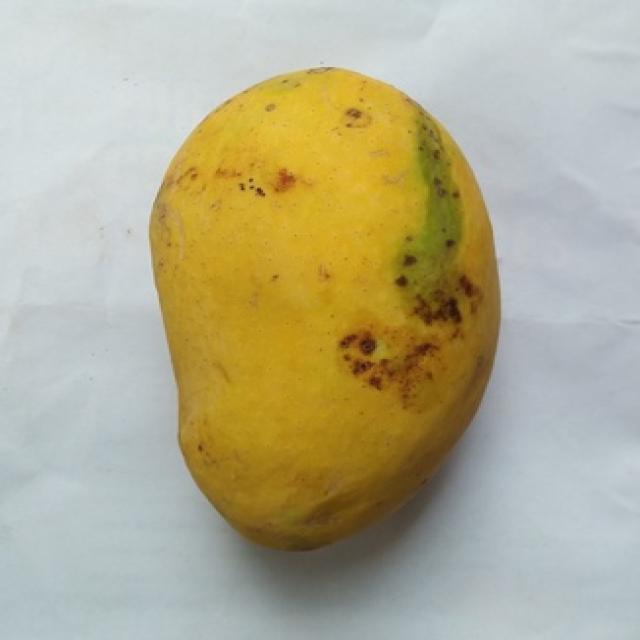Mango: (151, 69, 499, 549)
